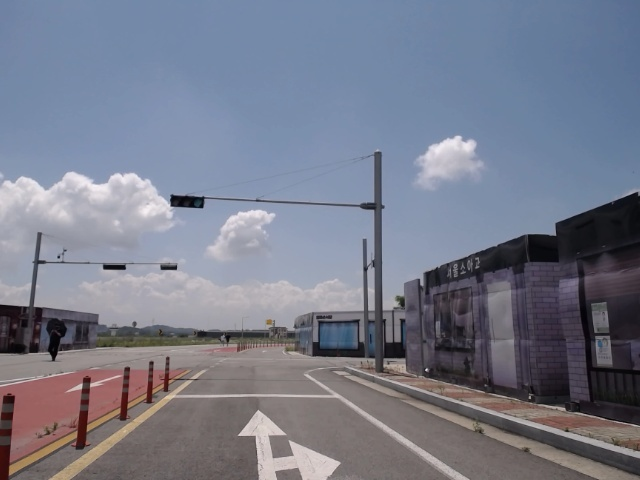green_3: (172, 196, 203, 207)
